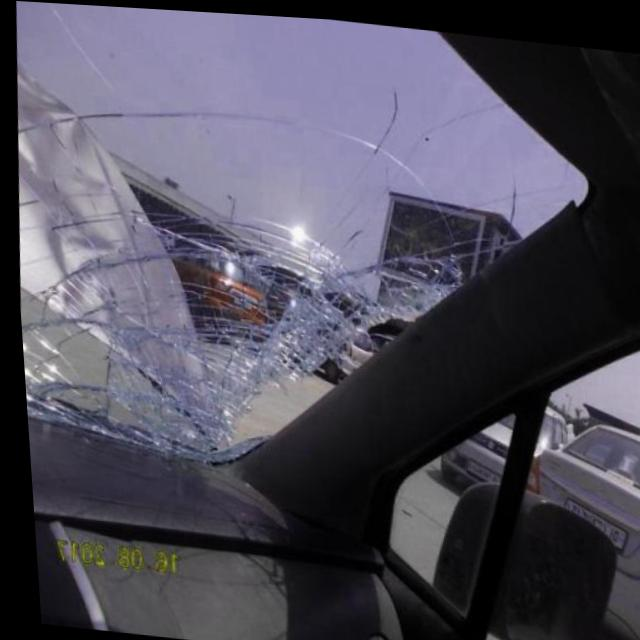Car-Damage: (11, 213, 477, 491)
